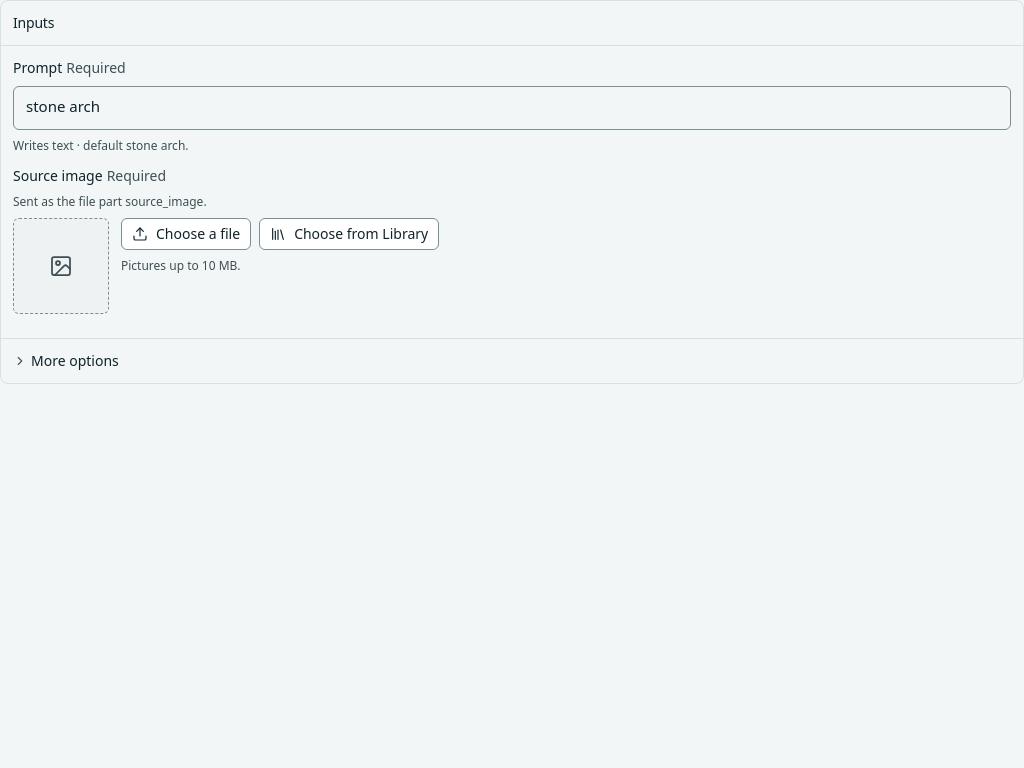
Test: WorkflowInputs › renders typed controls and explains file and ignored inputs
Note: Optional inputs wait under "More options".
Click the heading "More options". click: (75, 360)
box: x1=31 y1=351 x2=119 y2=370
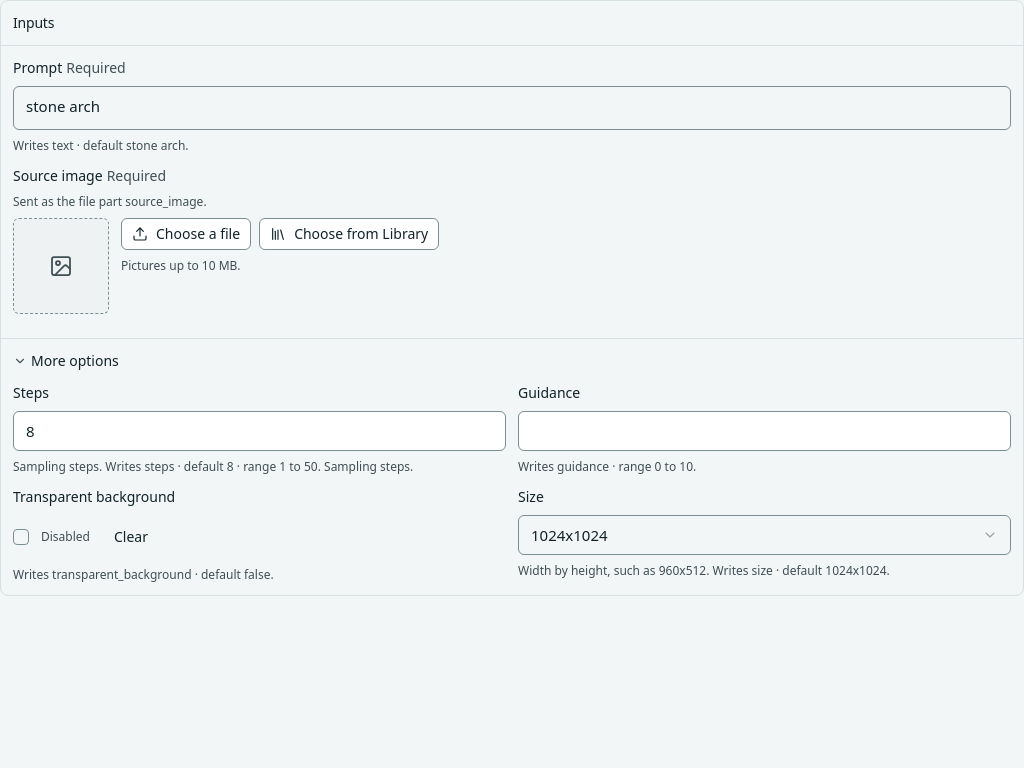
Expected: the button "Choose a file" is shown, x1=121 y1=218 x2=251 y2=250
Expected: the text "Sampling steps." is shown, x1=13 y1=458 x2=102 y2=475
Expected: the checkbox named "Transparent background" is shown, x1=13 y1=529 x2=29 y2=545
